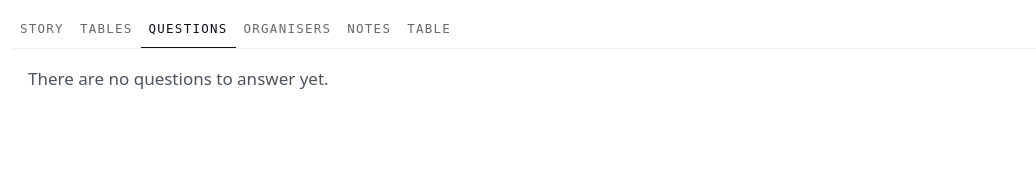
Scenario: the side panel's Tables tab › keeps the descriptions mounted behind the default tab, and shows them once chosen
The image size is (1036, 172).
Expected: the text "The suspects table." is not shown
What coordinates should you click on to do the following:
click the tab "Tables"
I would click on:
 (106, 30)
Its box is x1=72 y1=12 x2=141 y2=49.
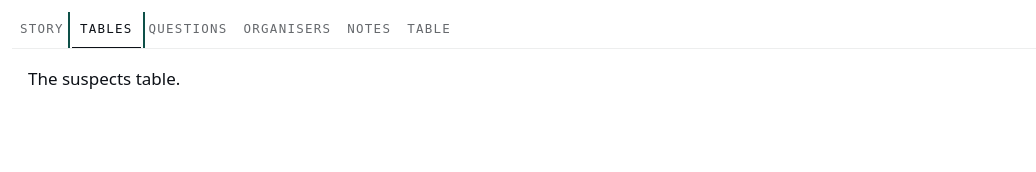
Expected: the text "The suspects table." is shown, x1=28 y1=67 x2=180 y2=90
